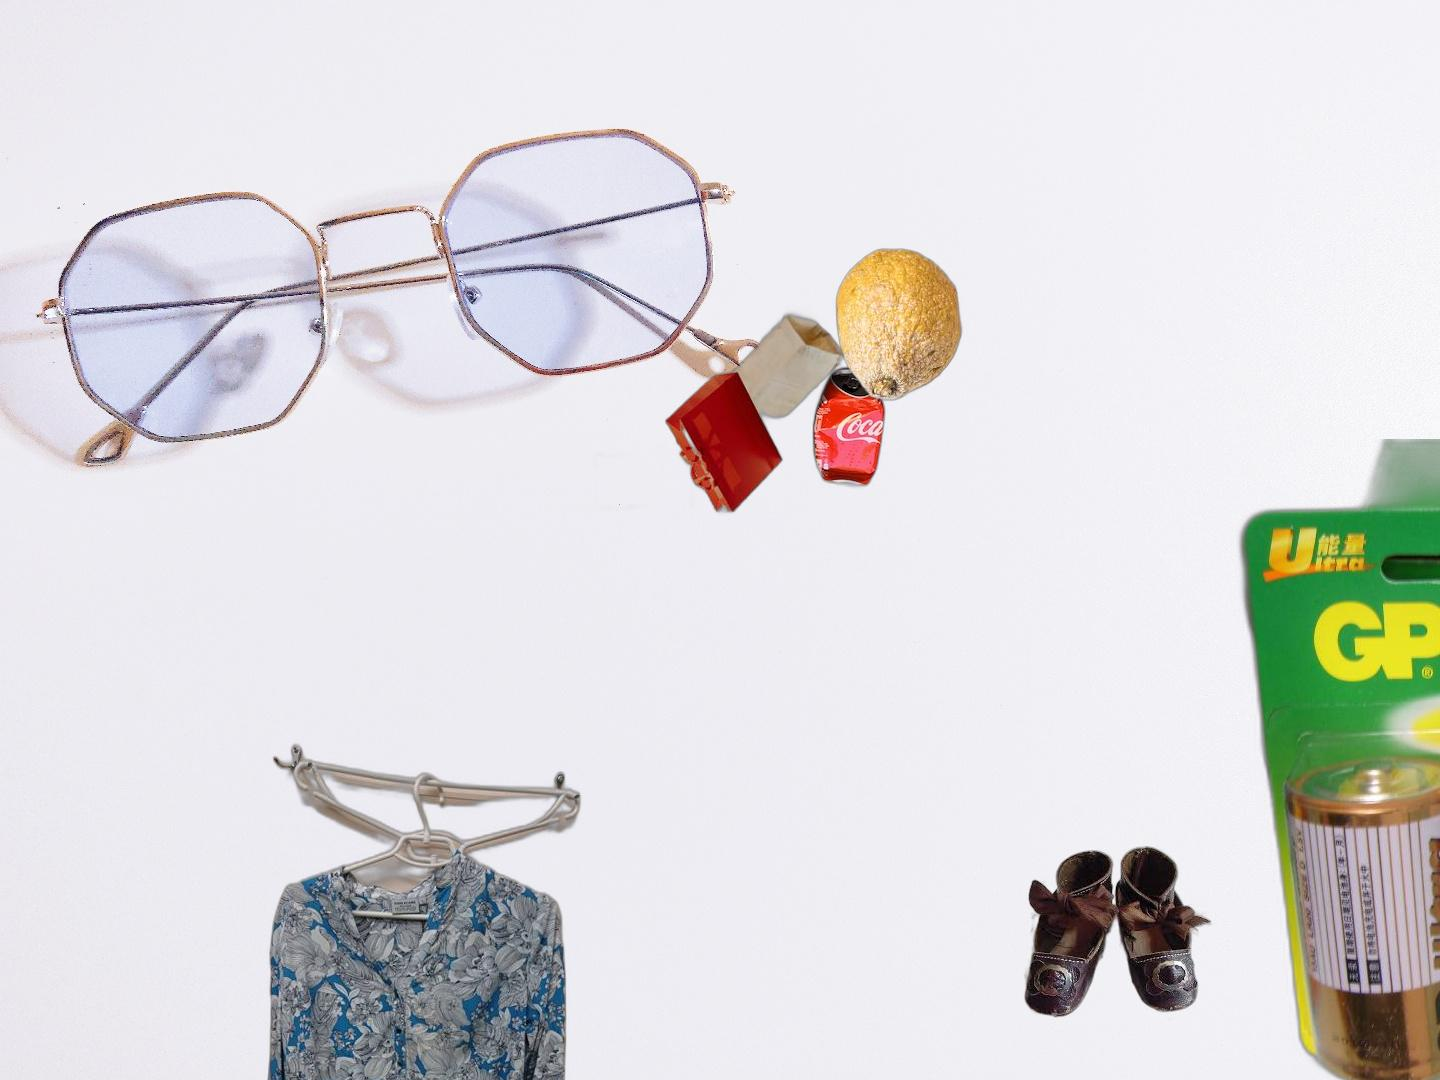battery: (1233, 439, 1440, 1080)
biological: (833, 246, 965, 403)
clothes: (247, 739, 584, 1080)
metal-cans: (808, 361, 889, 492)
paper-bag: (591, 304, 847, 517)
shoes: (1022, 844, 1215, 1020)
